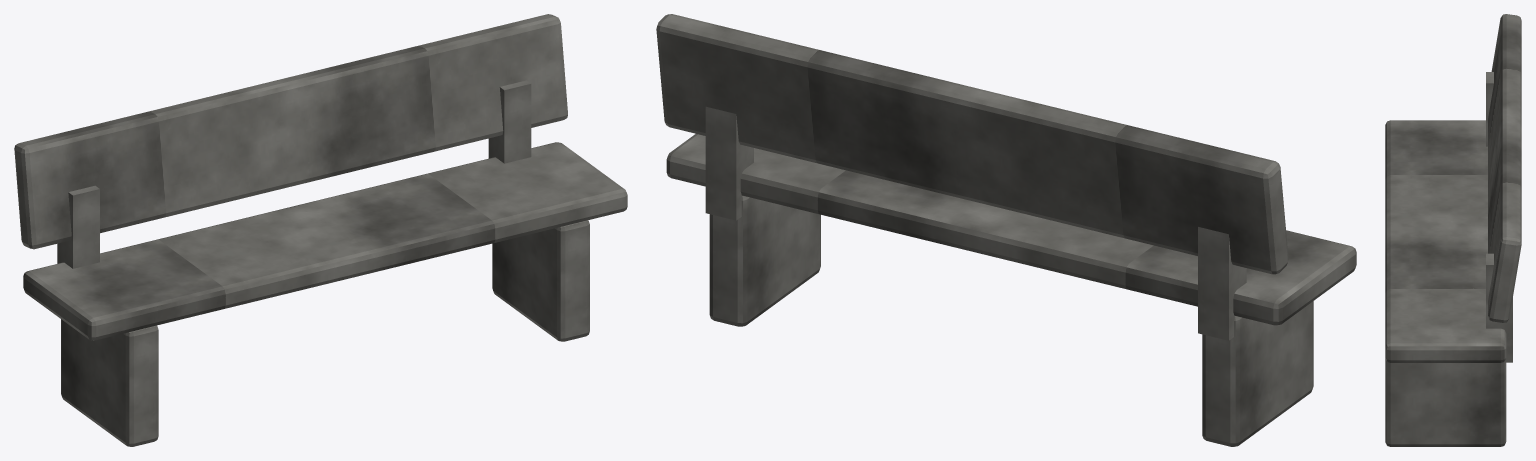
File: ST04_ConcreteBench.glb
The picture shows the model from 3 angles, left to right: view 1: azimuth 30°, elevation 25°; view 2: azimuth 150°, elevation 25°; view 3: azimuth 270°, elevation 25°; orthographic projection. The views are drawn at different scales.
Visible parts, largest first — view 1: ST04_ConcreteBench; view 2: ST04_ConcreteBench; view 3: ST04_ConcreteBench.
Boxes of the visible parts, box(x1,y1,x2,y2) form: ST04_ConcreteBench: box(14, 14, 627, 446); ST04_ConcreteBench: box(656, 14, 1356, 446); ST04_ConcreteBench: box(1385, 14, 1521, 446).
Bounding box in the file's own units: 2 × 0.926 × 0.5077.
Materials: 1 (1 with a texture image).
